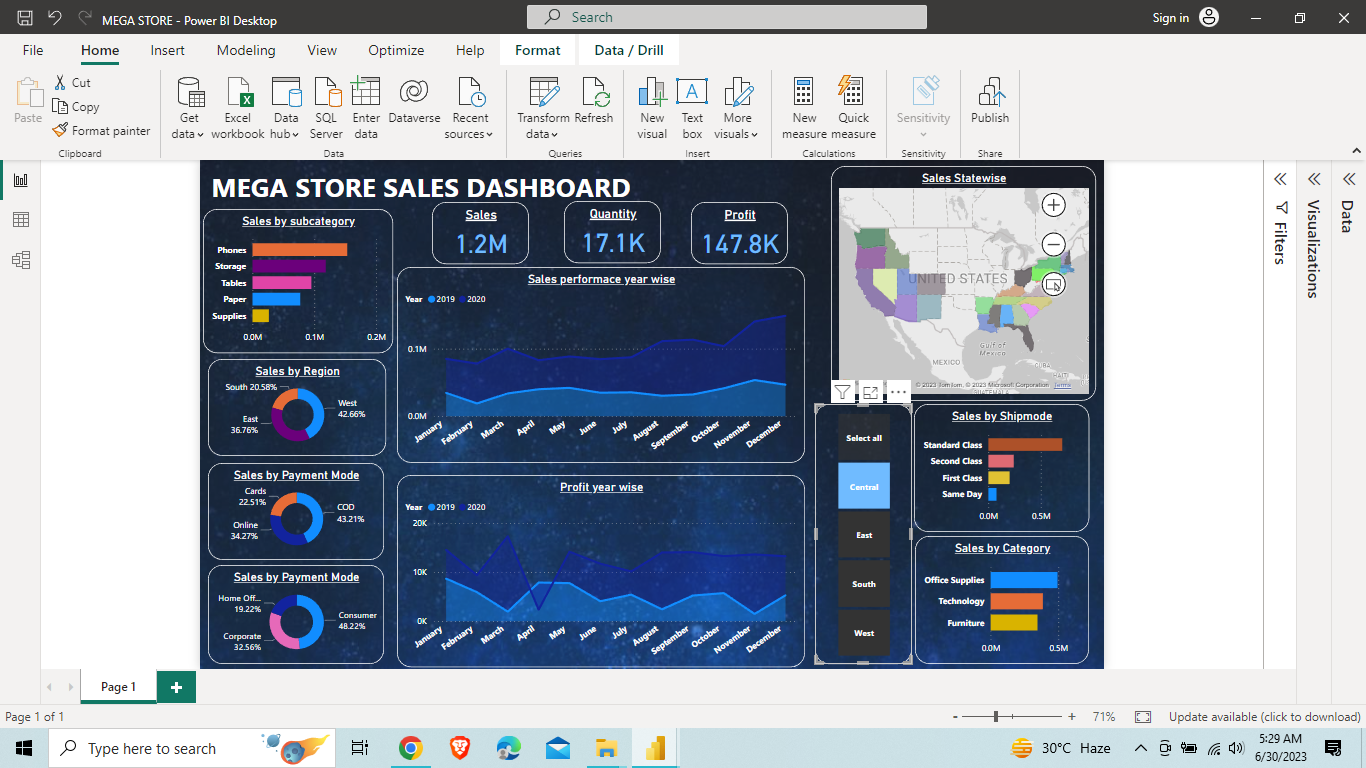

What the dashboard file says about the page in this screenshot:
{"tool":"powerbi","page":{"name":"Page 1","canvas":[1280,720],"ordinal":0},"visuals":[{"type":"stackedAreaChart","title":"Profit year wise","fields":{"Category":["SuperStore_Sales_Dataset.Order Date.Variation.Date Hierarchy.Month","SuperStore_Sales_Dataset.Order Date.Variation.Date Hierarchy.Day"],"Series":["SuperStore_Sales_Dataset.Order Date.Variation.Date Hierarchy.Year"],"Y":["SuperStore_Sales_Dataset.Profit"]},"box":[285.7,441.3,577.1,271.6],"z":0},{"type":"stackedAreaChart","title":"Sales performace year wise","fields":{"Category":["SuperStore_Sales_Dataset.Order Date.Variation.Date Hierarchy.Month","SuperStore_Sales_Dataset.Order Date.Variation.Date Hierarchy.Day"],"Series":["SuperStore_Sales_Dataset.Order Date.Variation.Date Hierarchy.Year"],"Y":["SuperStore_Sales_Dataset.Sales"]},"box":[288.6,157,577.1,277.2],"z":1000},{"type":"clusteredBarChart","title":"Sales by Category","fields":{"Category":["SuperStore_Sales_Dataset.Category"],"Y":["SuperStore_Sales_Dataset.Sales"]},"box":[1011.4,531.9,246.1,181.1],"z":2000},{"type":"clusteredBarChart","title":"Sales by Shipmode","fields":{"Category":["SuperStore_Sales_Dataset.Ship Mode"],"Y":["SuperStore_Sales_Dataset.Sales"]},"box":[1010,345.1,247.5,181.1],"z":3000},{"type":"clusteredBarChart","title":"Sales by subcategory","fields":{"Category":["SuperStore_Sales_Dataset.Sub-Category"],"Y":["SuperStore_Sales_Dataset.Sales"]},"box":[8.5,69.3,268.8,203.7],"z":4000},{"type":"donutChart","title":" Sales by Region","fields":{"Category":["SuperStore_Sales_Dataset.Region"],"Y":["SuperStore_Sales_Dataset.Sales"]},"box":[11.3,282.9,251.8,137.2],"z":5000},{"type":"donutChart","title":" Sales by Payment Mode","fields":{"Category":["SuperStore_Sales_Dataset.Payment Mode"],"Y":["SuperStore_Sales_Dataset.Sales"]},"box":[11.3,428.6,249,137.2],"z":6000},{"type":"donutChart","title":" Sales by Payment Mode","fields":{"Y":["SuperStore_Sales_Dataset.Sales"],"Category":["SuperStore_Sales_Dataset.Segment"]},"box":[11.3,572.9,249,140],"z":7000},{"type":"filledMap","title":" Sales Statewise","fields":{"Category":["SuperStore_Sales_Dataset.State"],"Series":["SuperStore_Sales_Dataset.Sales"]},"box":[892.6,8.5,374.9,332.4],"z":8000},{"type":"card","title":"Sales","fields":{"Values":["SuperStore_Sales_Dataset.Sales"]},"box":[328.2,59.4,137.2,87.7],"z":9000},{"type":"card","title":"Quantity","fields":{"Values":["SuperStore_Sales_Dataset.Quantity"]},"box":[514.9,58,137.2,87.7],"z":10000},{"type":"card","title":"Profit","fields":{"Values":["SuperStore_Sales_Dataset.Profit"]},"box":[684.6,59.4,137.2,87.7],"z":11000},{"type":"slicer","fields":{"Values":["SuperStore_Sales_Dataset.Region"]},"box":[872.8,345.1,137.2,367.8],"z":12000},{"type":"textbox","box":[11.3,7.1,650.7,62.2],"z":13000}]}

Visuals, with their boxes on the page's 1280x720 design canvas (x1, y1, x2, y2). These are canvas units, not pixel positions in the 1366x768 screenshot, which may show the page scaled, cropped or inside an application window:
"Profit year wise" stackedAreaChart: x1=286, y1=441, x2=863, y2=713
"Sales performace year wise" stackedAreaChart: x1=289, y1=157, x2=866, y2=434
"Sales by Category" clusteredBarChart: x1=1011, y1=532, x2=1258, y2=713
"Sales by Shipmode" clusteredBarChart: x1=1010, y1=345, x2=1258, y2=526
"Sales by subcategory" clusteredBarChart: x1=8, y1=69, x2=277, y2=273
" Sales by Region" donutChart: x1=11, y1=283, x2=263, y2=420
" Sales by Payment Mode" donutChart: x1=11, y1=429, x2=260, y2=566
" Sales by Payment Mode" donutChart: x1=11, y1=573, x2=260, y2=713
" Sales Statewise" filledMap: x1=893, y1=8, x2=1268, y2=341
"Sales" card: x1=328, y1=59, x2=465, y2=147
"Quantity" card: x1=515, y1=58, x2=652, y2=146
"Profit" card: x1=685, y1=59, x2=822, y2=147
slicer - SuperStore_Sales_Dataset.Region: x1=873, y1=345, x2=1010, y2=713
textbox: x1=11, y1=7, x2=662, y2=69
